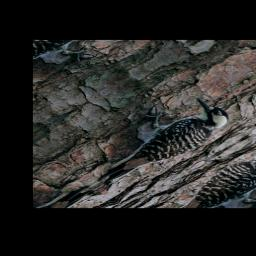Woodpecker: (65, 81, 243, 197)
